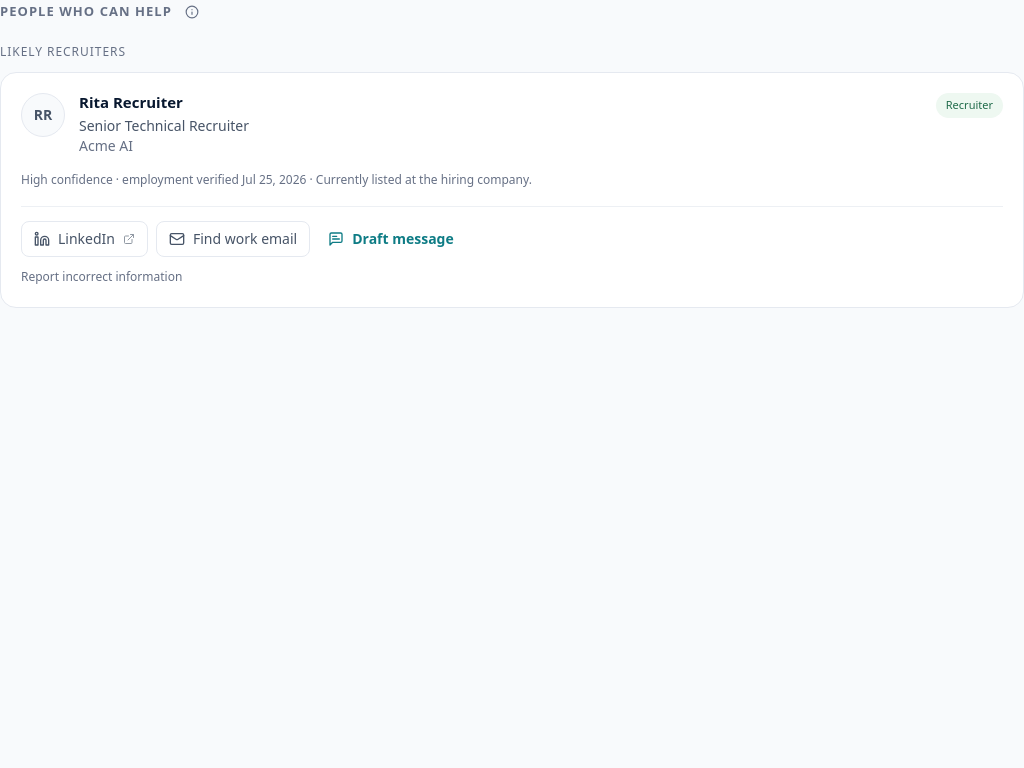
Improve with AI › hides the AI action when the backend says it is unavailable
Click the button "Draft message" at (391, 239), box [318, 221, 464, 257]
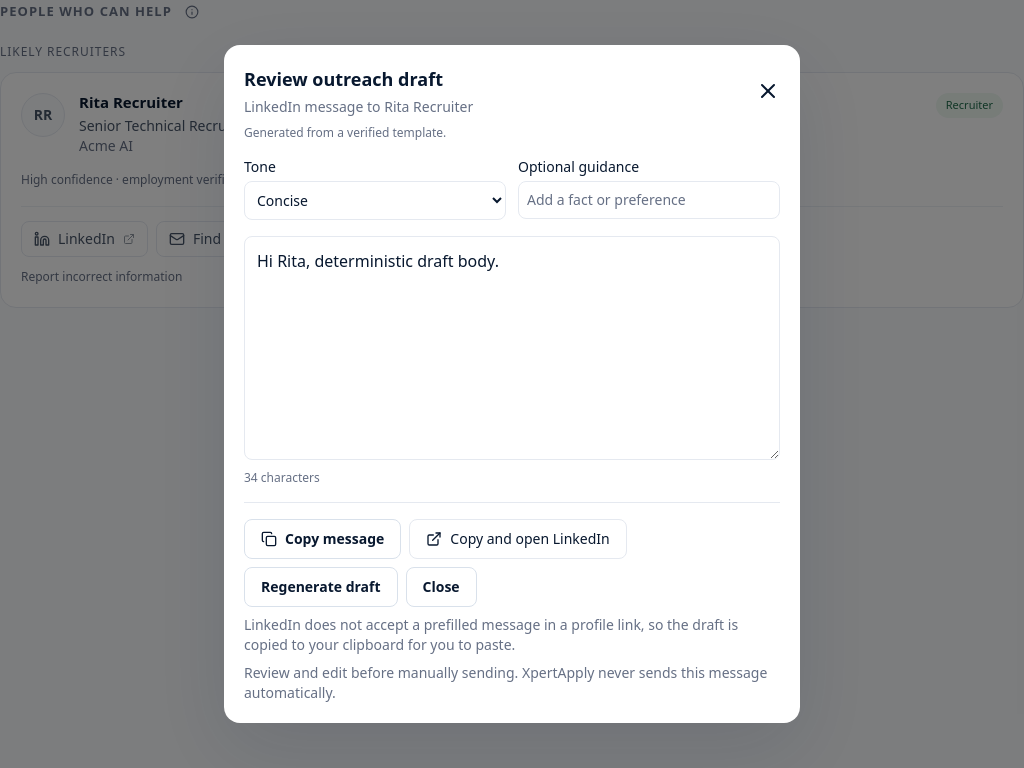
Expected: the text box "Hi Rita, deterministic draft body." is shown, [244, 236, 780, 460]
